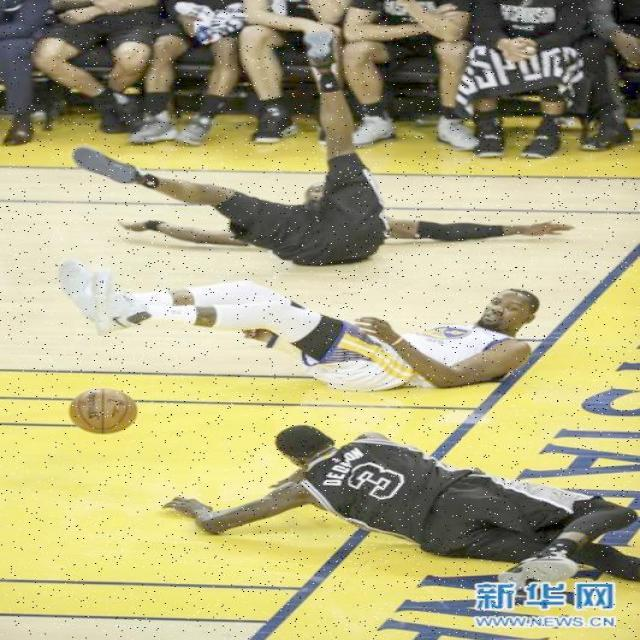fall: (74, 105, 566, 260), (191, 424, 635, 579), (51, 268, 556, 396)
